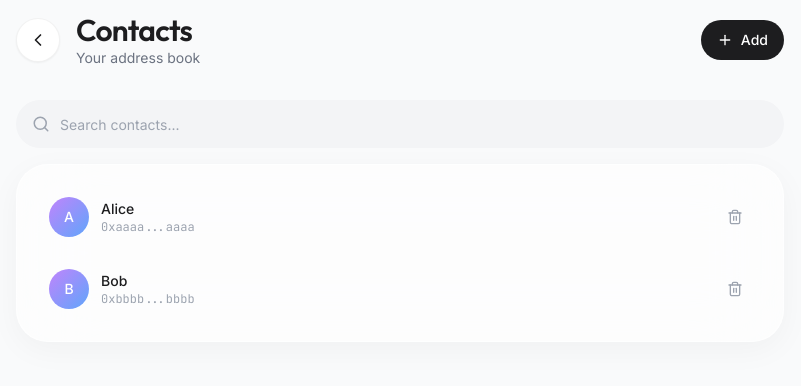
Test case: Contacts — search filter (§15.x) › no-match search renders the empty state
Type "nobody-matches-this" into the field with placeholder "Search contacts..." at (400,124), box [16,100,784,148]
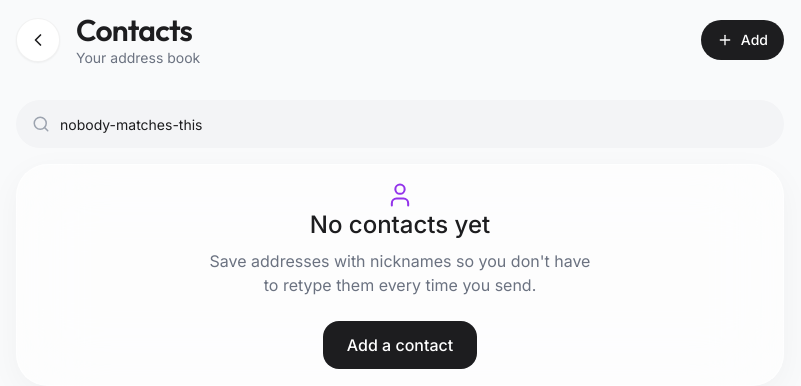
Check: the text "No contacts yet" is shown, box [310,209,490,241]
